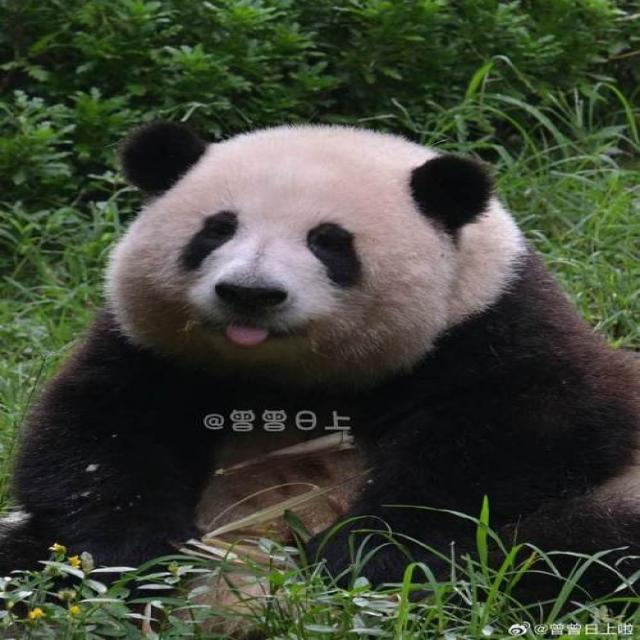panda: (48, 120, 640, 564)
